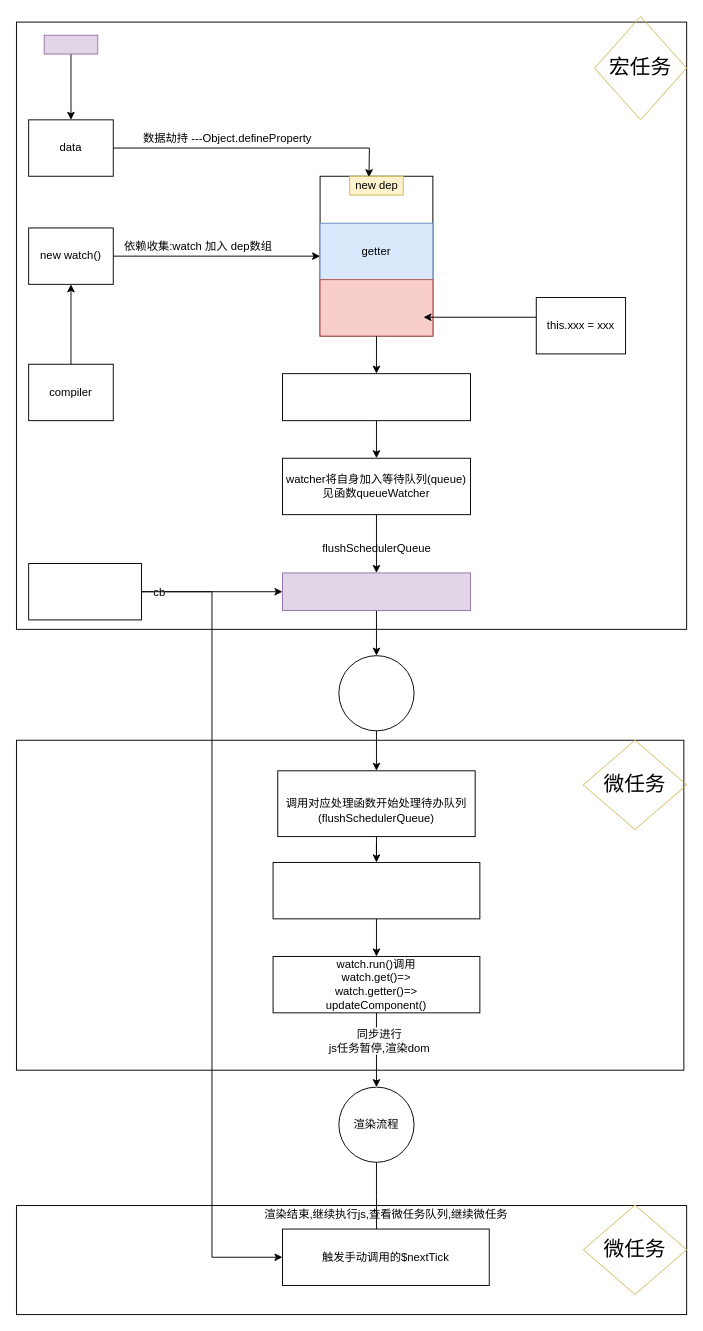
The diagram is 703 pixels wide and 1331 high, and some of its shapes have lost their labels. The shapes that lost their labels are listed below. From the top down, each one's centre as x and y in pixels, then its label:
At point 70,44: "new Vue".
At point 376,307: "setter".
At point 376,397: "通知dep数组里所有的watcher".
At point 84,591: "手动调用this.$nextTick".
At point 376,591: "nextTick将任务加入待办队列 (callbacks)".
At point 376,693: "宏任务结束 微任务开始".
At point 376,890: "获取到每个watcher,调用watcher.run(),进行数据计算".
